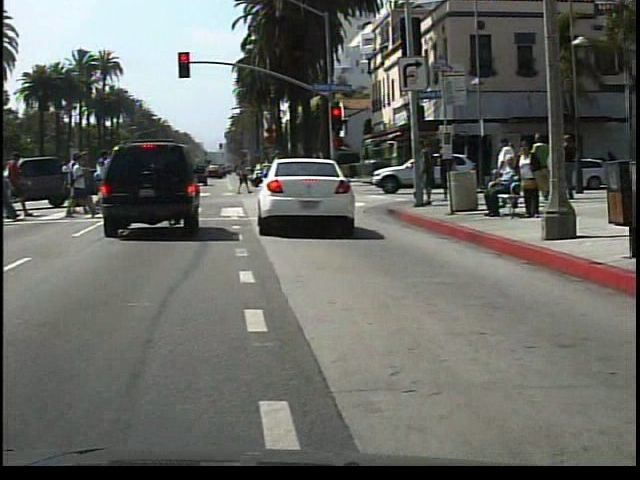person: (519, 139, 554, 224), (485, 155, 527, 216), (255, 145, 288, 215)
